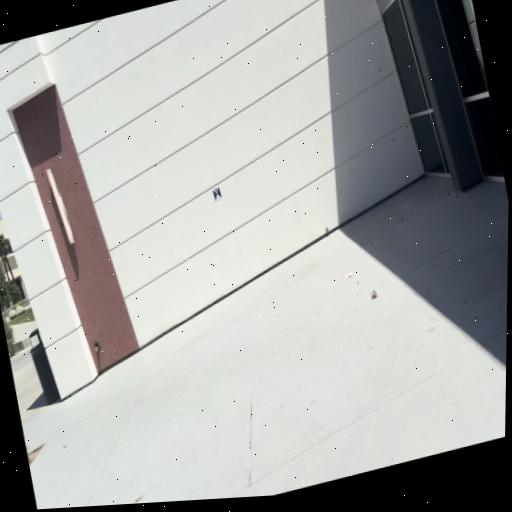target0: (212, 184, 222, 201)
